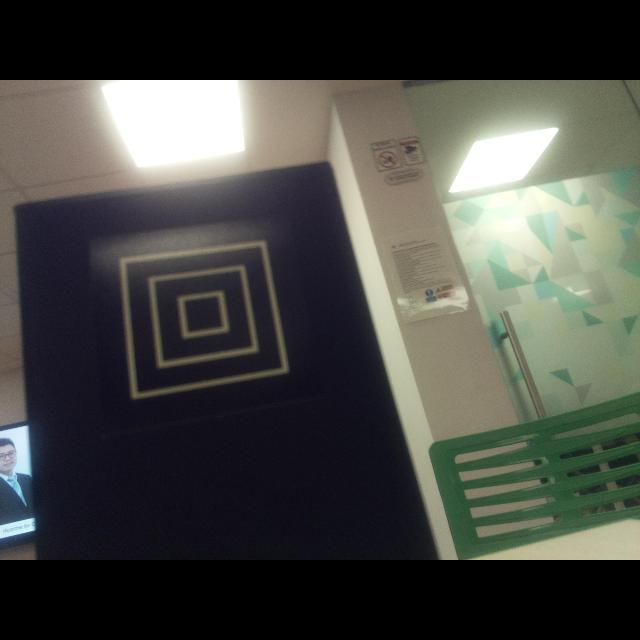BULLSEYE: (121, 240, 289, 399)
